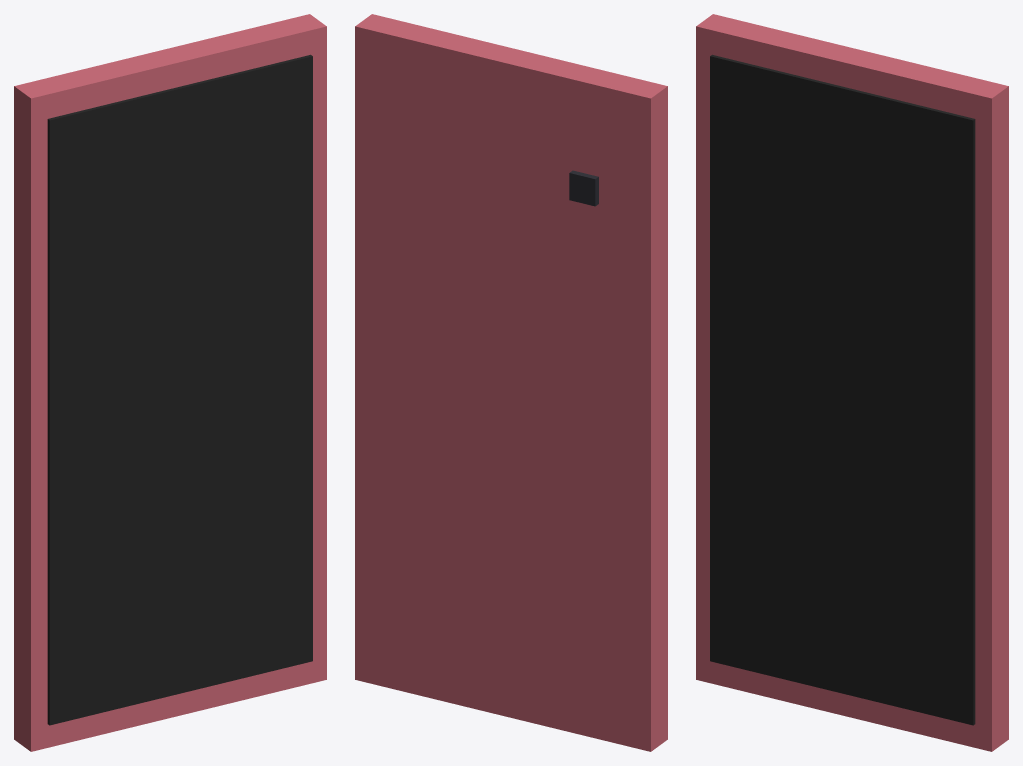
Rendered from iphone-xr.glb.
3 views of the same model, side by side, from view 1: azimuth 30°, elevation 25°; view 2: azimuth 150°, elevation 25°; view 3: azimuth 330°, elevation 25° (orthographic).
Parts seen in each view (by area): view 1: tela, corpo; view 2: corpo, lente-0; view 3: tela, corpo.
Part boxes in pixels (x1,y1,x2,y2): tela: (47,54,312,725); corpo: (14,14,326,751); corpo: (355,14,667,751); lente-0: (569,170,598,206); tela: (710,54,975,725); corpo: (696,14,1008,751).
Bounding box in the file's own units: 0.7956 × 1.68 × 0.1057.
